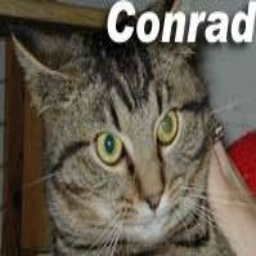cat: (20, 30, 227, 256)
